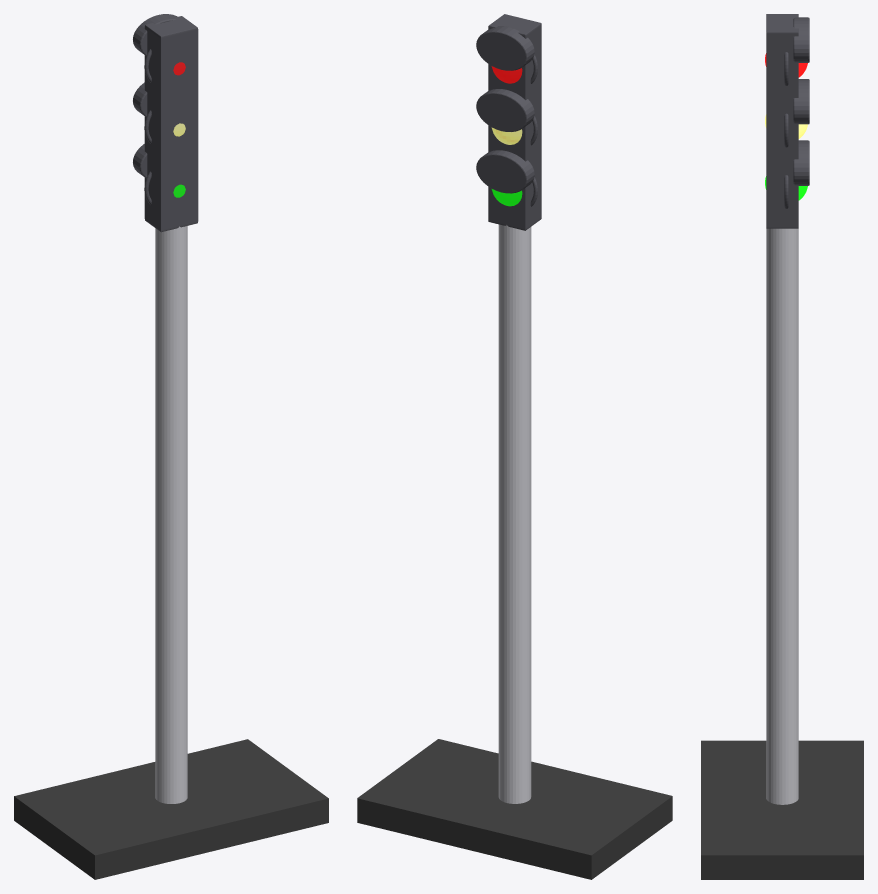
3 renders of one model, left to right at view 1: azimuth 30°, elevation 25°; view 2: azimuth 150°, elevation 25°; view 3: azimuth 270°, elevation 25°, orthographic.
Visible parts, largest first — view 1: Cube, Cylinder, Cube.001; view 2: Cube, Cylinder, Cube.001, Cylinder.001, Cylinder.003, Cylinder.002; view 3: Cube, Cylinder, Cube.001, Cylinder.001, Cylinder.003, Cylinder.002.
Boxes of the visible parts, left/top/right/bottom form: Cube: left=14, top=739, right=328, bottom=879; Cylinder: left=155, top=226, right=187, bottom=803; Cube.001: left=144, top=16, right=198, bottom=232; Cube: left=357, top=739, right=672, bottom=879; Cylinder: left=498, top=224, right=531, bottom=803; Cube.001: left=488, top=14, right=541, bottom=230; Cylinder.001: left=476, top=26, right=534, bottom=70; Cylinder.003: left=476, top=150, right=534, bottom=193; Cylinder.002: left=476, top=89, right=534, bottom=131; Cube: left=701, top=740, right=863, bottom=879; Cylinder: left=766, top=228, right=798, bottom=804; Cube.001: left=766, top=14, right=798, bottom=228; Cylinder.001: left=793, top=17, right=809, bottom=62; Cylinder.003: left=793, top=140, right=809, bottom=185; Cylinder.002: left=793, top=79, right=809, bottom=124.
Size of the model in its own units: 1 by 3.26 by 0.6.
